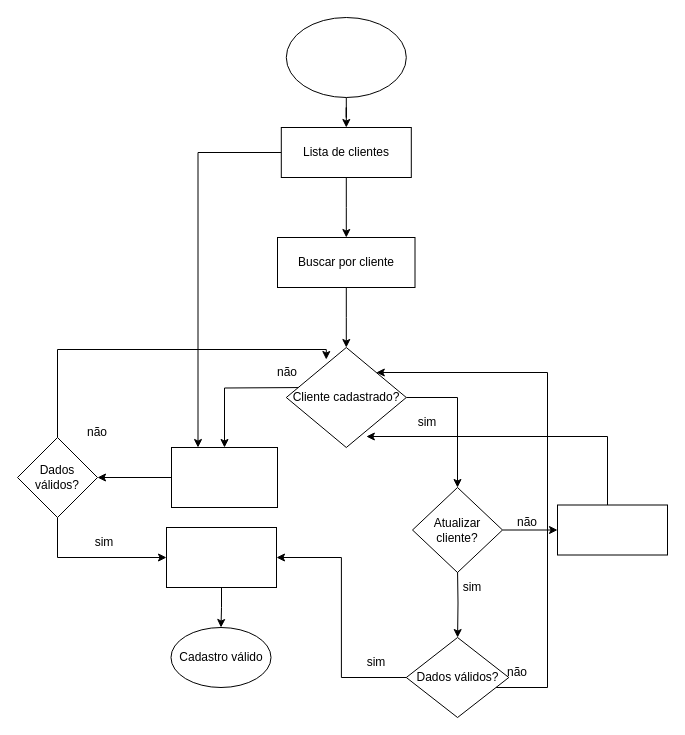
This 685x735 diagram has some shape labels left out. Here are the shapes that lost their labels. From the top down, the centre of each, then its label:
[345,57]: Início
[224,477]: Criação de cadastro: nome, número e endereço
[612,529]: Deletar/desativar
[221,557]: Leitura da página
